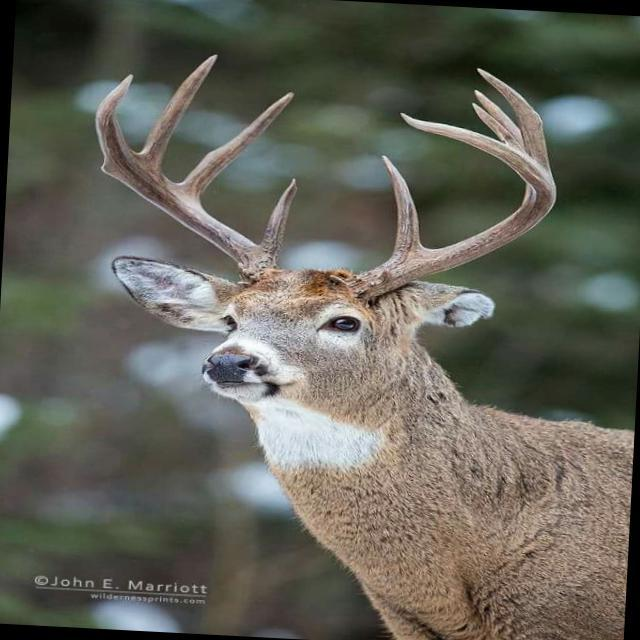L-F: (346, 113, 557, 299)
L-G1: (381, 154, 427, 259)
R-F: (95, 74, 281, 284)
R-G1: (258, 177, 298, 262)
R-G2: (175, 91, 295, 202)
R-G3: (138, 54, 218, 170)
